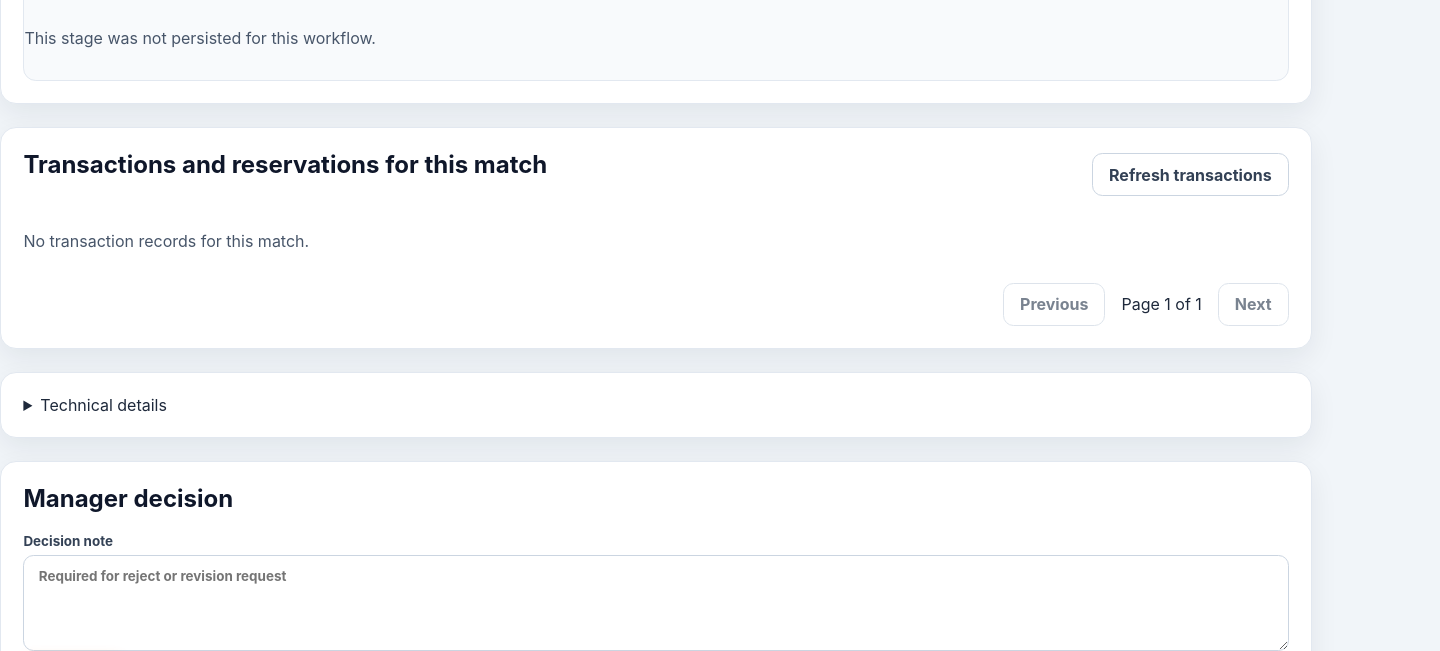
it: shows the safe agent trace, with technical details collapsed and no global analytics
(page scrolled)
Click the heading "Technical details": (104, 405) 40,395 -> 167,415
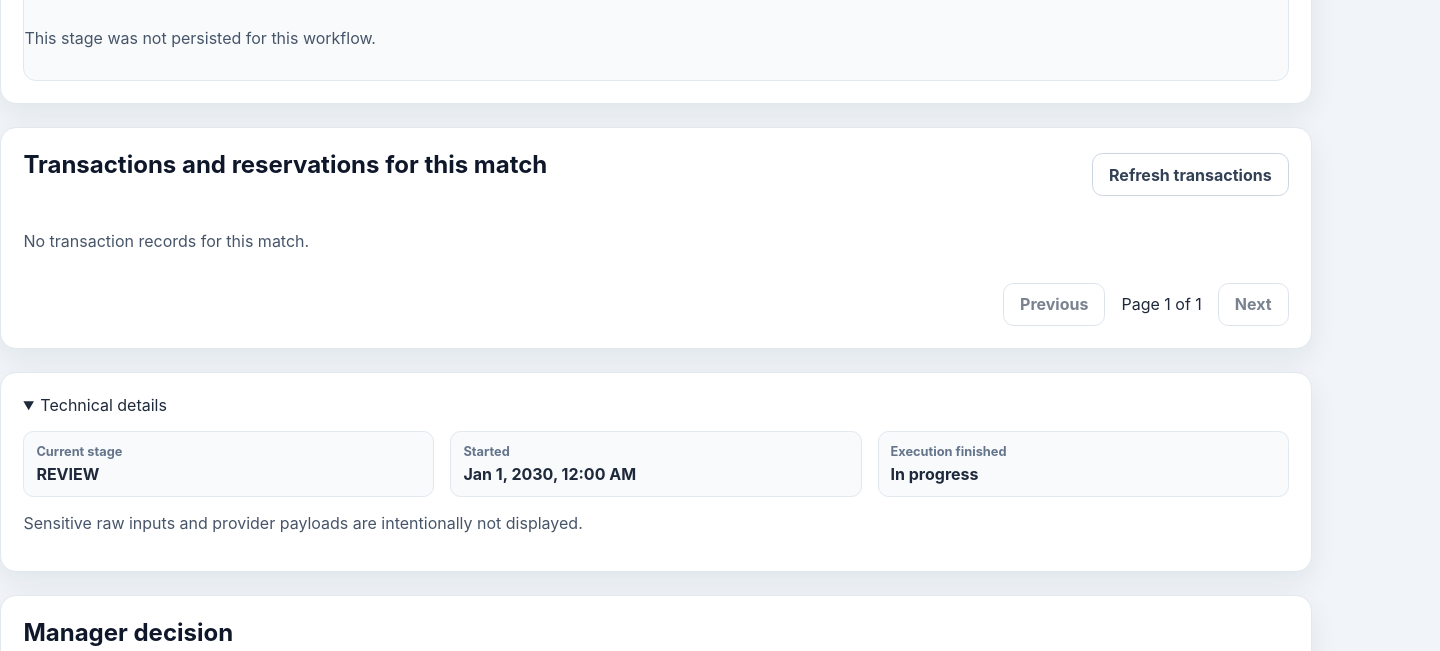
Result: the text "Sensitive raw inputs" is shown at 23,513 -> 583,533
